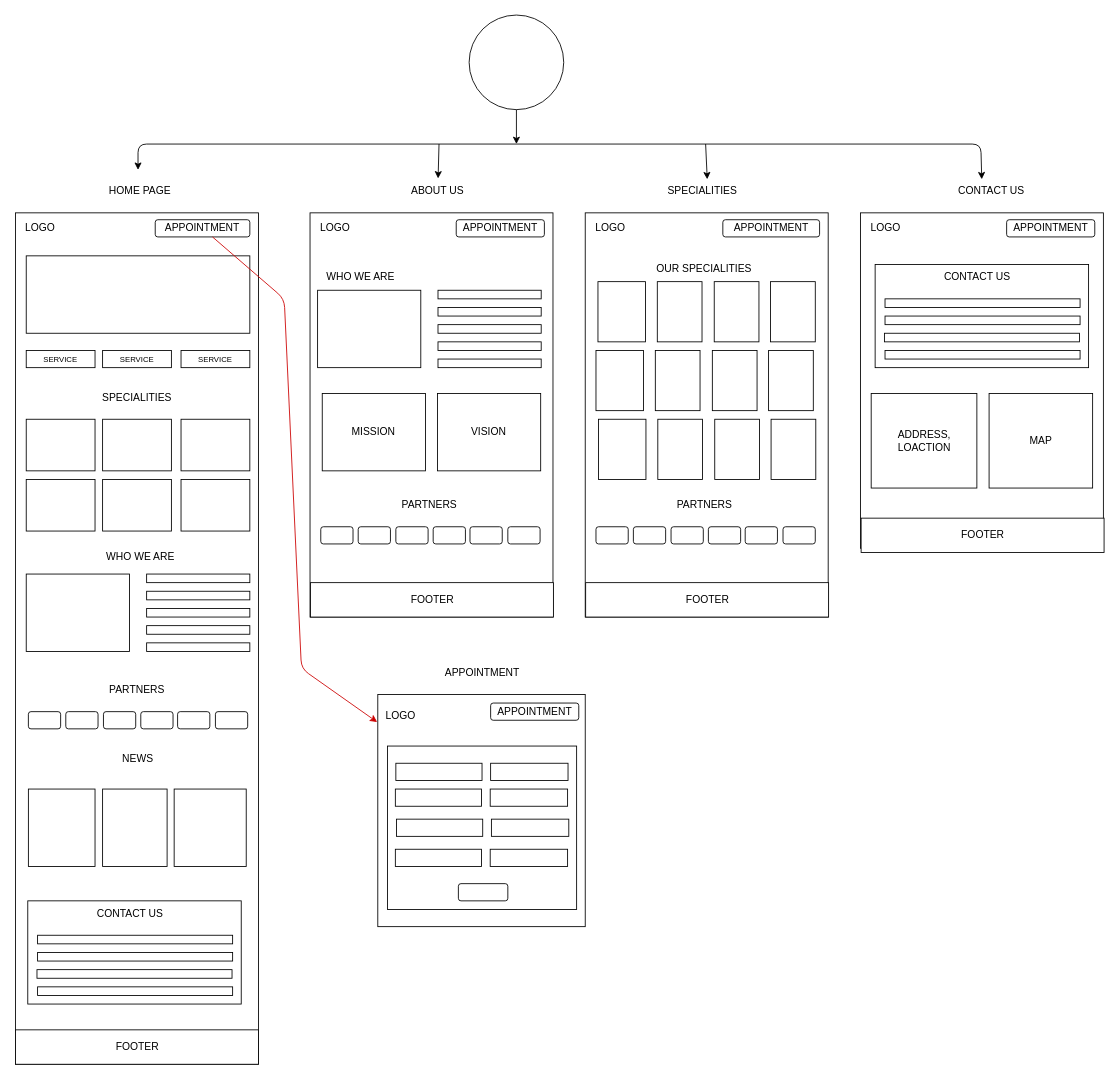
Image size: 1119x1079. Some labels were removed from this diagram. The centre of each missing label's shape, as x and y in pixels:
BANNER: [137,294]
BOOK: [483,892]
Website: [516,62]
